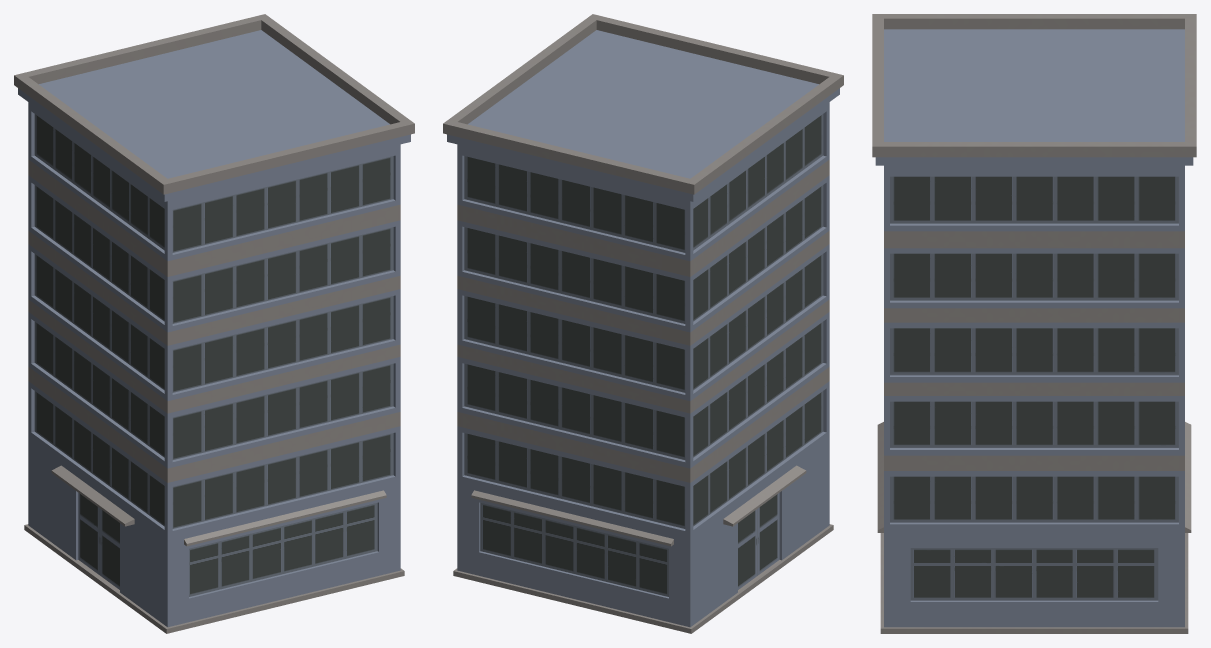
Rendered from house2.fbx.
The picture shows the model from 3 angles, left to right: view 1: azimuth 30°, elevation 25°; view 2: azimuth 150°, elevation 25°; view 3: azimuth 270°, elevation 25°; orthographic projection. The views are drawn at different scales.
Visible parts, largest first — view 1: sptp_building_03; view 2: sptp_building_03; view 3: sptp_building_03.
Boxes of the visible parts, x1,y1,x2,y2 form: sptp_building_03: (14,14,414,633); sptp_building_03: (443,14,843,633); sptp_building_03: (872,14,1196,633).
Size of the model in its own units: 802 by 1380 by 826.
1 material, 1 textured.
